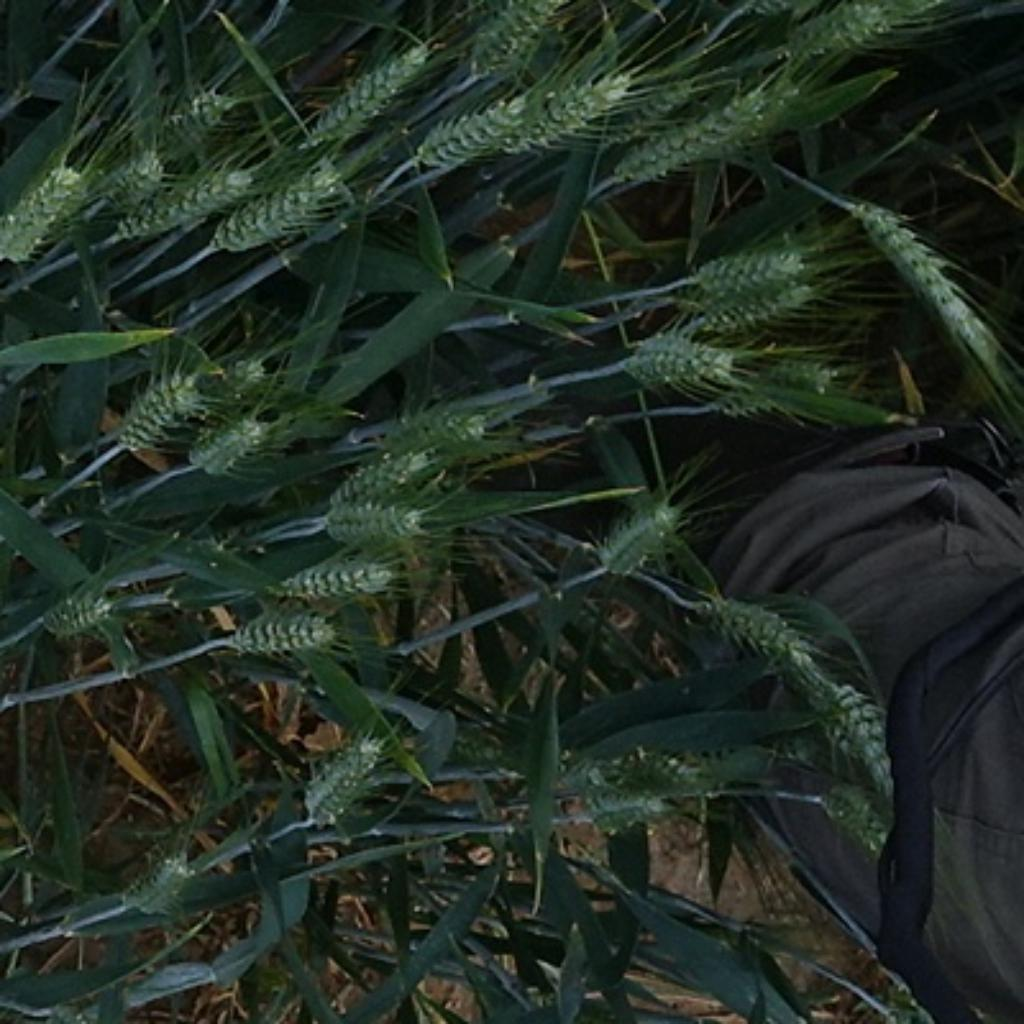0-0: (591, 79, 801, 215), (847, 193, 1001, 372), (765, 616, 890, 798), (194, 145, 360, 256), (299, 28, 440, 140), (0, 158, 104, 270), (115, 156, 248, 243), (506, 71, 632, 158), (364, 391, 508, 467), (291, 724, 394, 826), (588, 476, 693, 576), (691, 583, 811, 668), (779, 1, 940, 62), (107, 358, 215, 448), (414, 87, 545, 161), (719, 348, 857, 414), (115, 842, 225, 924), (314, 501, 455, 563), (220, 596, 345, 663), (619, 322, 729, 394), (468, 2, 563, 81), (145, 74, 238, 153), (693, 240, 813, 301), (181, 407, 286, 476), (808, 762, 890, 849), (276, 550, 404, 604), (35, 573, 128, 645), (189, 348, 284, 409), (330, 453, 419, 512), (105, 145, 169, 222), (696, 289, 839, 322), (631, 746, 709, 792), (634, 79, 699, 131), (591, 795, 661, 836)
